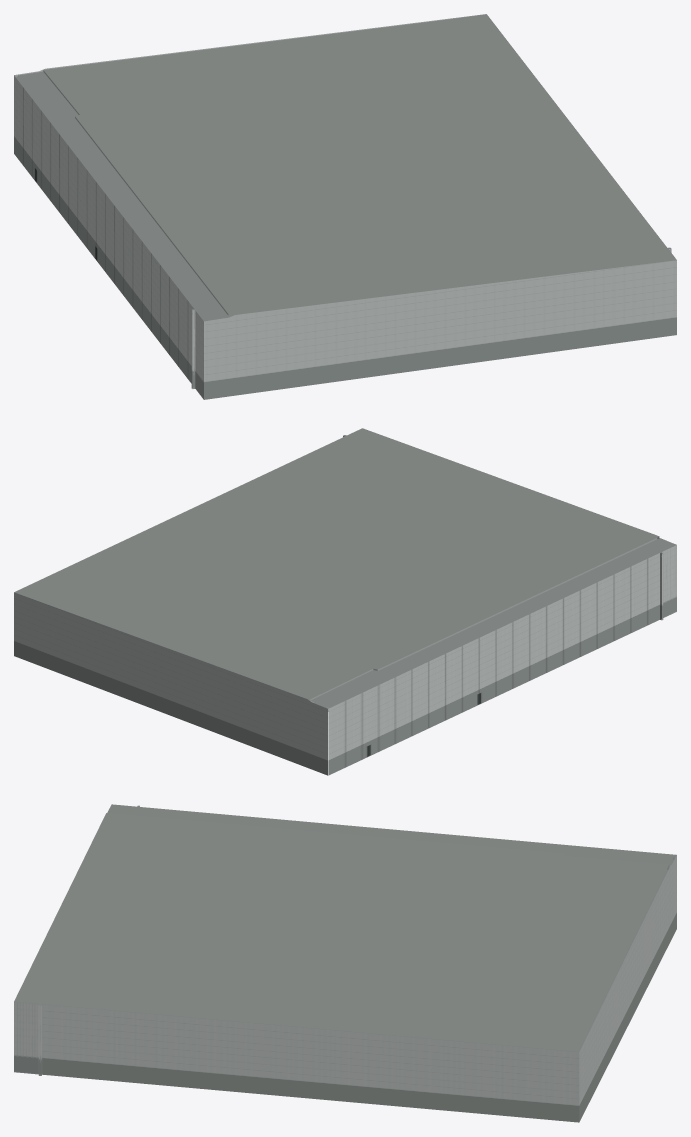
3 views of the same model, one above another, from view 1: azimuth 30°, elevation 25°; view 2: azimuth 150°, elevation 25°; view 3: azimuth 270°, elevation 25° (orthographic). The views are drawn at different scales.
Parts seen in each view (by area): view 1: 0363100012159282; view 2: 0363100012159282; view 3: 0363100012159282.
Boxes of the visible parts, x1,y1,x2,y2 form: 0363100012159282: (14, 14, 676, 399); 0363100012159282: (14, 428, 676, 775); 0363100012159282: (14, 804, 676, 1122).
Size of the model in its own units: 93.55 by 13.61 by 107.
2 materials, 1 textured.
